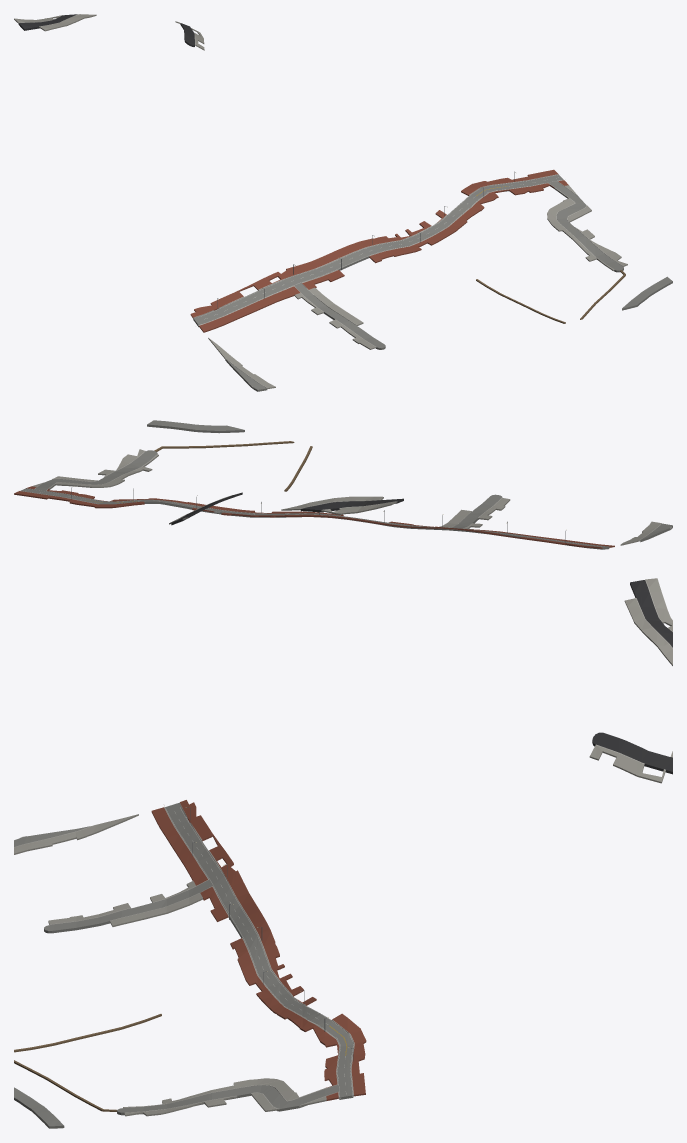
3 views of the same model, one above another, from view 1: azimuth 30°, elevation 25°; view 2: azimuth 150°, elevation 25°; view 3: azimuth 270°, elevation 25° (orthographic). The views are drawn at different scales.
Bounding box in the file's own units: 298 × 133 × 291.
